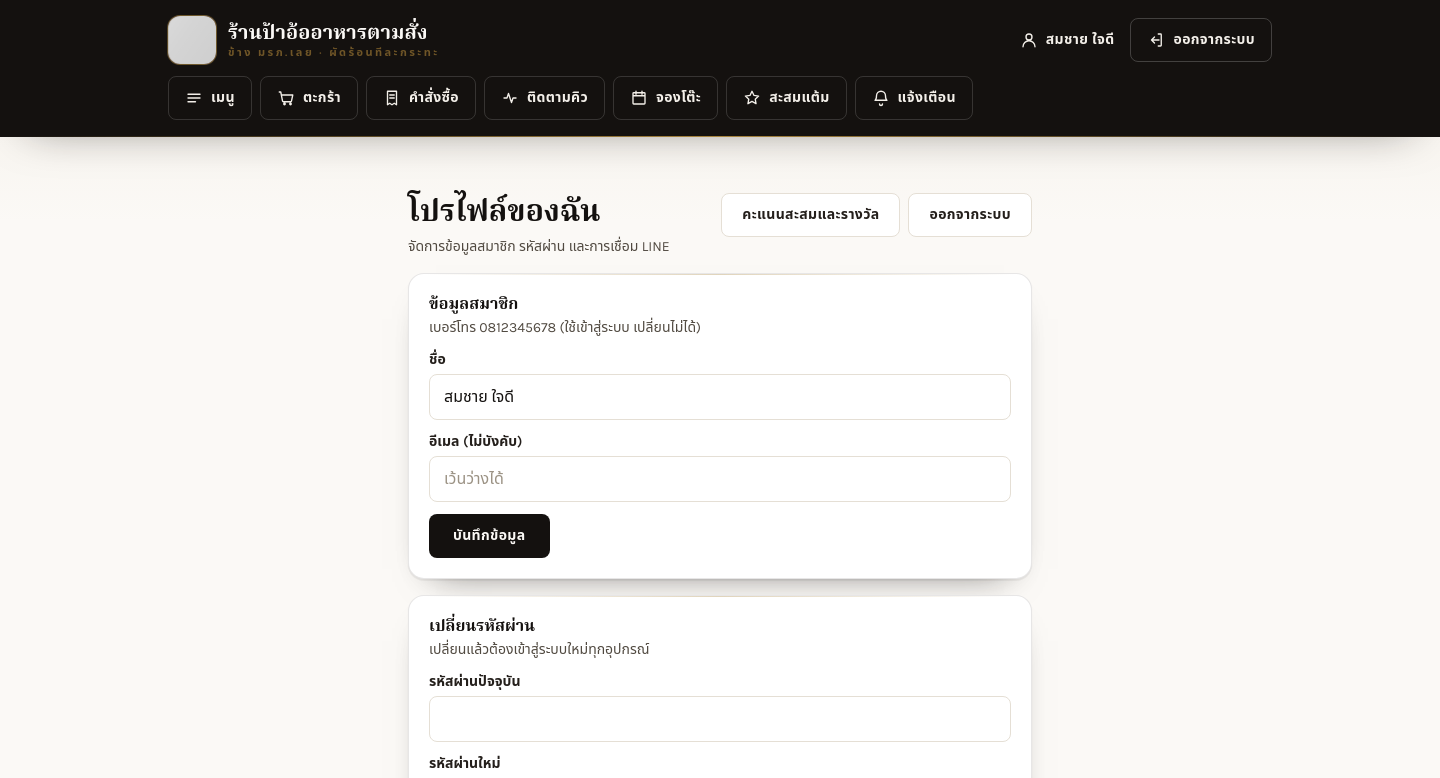
Test: แถบบัญชีสมาชิกในเชลล์ลูกค้า › ออกจากระบบจากหน้าโปรไฟล์แล้วหัวเว็บกลับเป็น guest
Expected: the navigation bar named "บัญชีสมาชิก" shows "สมชาย ใจดี", [1008,18,1126,62]
Click the button "ออกจากระบบ" next to "คะแนนสะสมและรางวัล".
click(970, 215)  # box [908,193,1032,237]
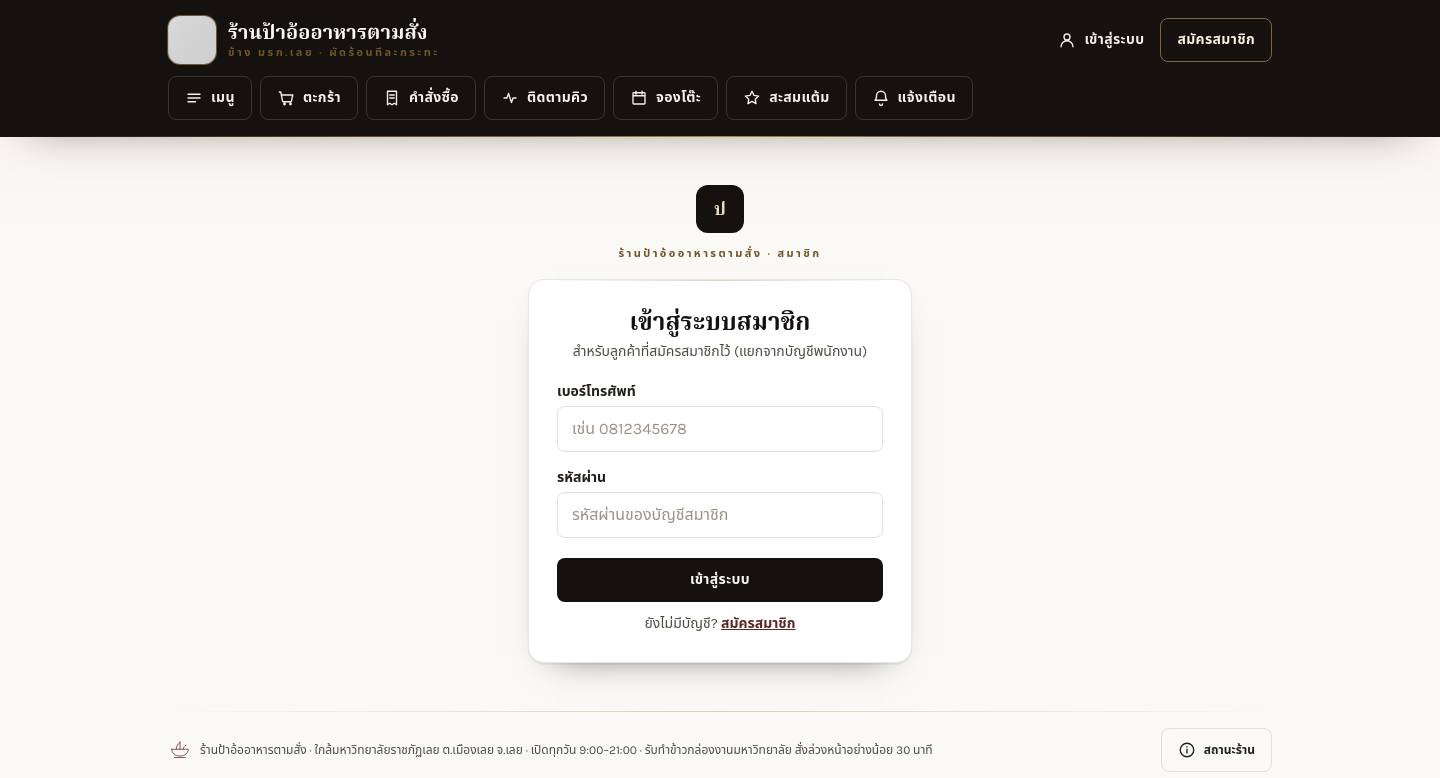
Expected: the navigation bar named "บัญชีสมาชิก" shows "เข้าสู่ระบบ", [1046,18,1156,62]
